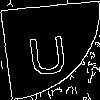U: (25, 25, 70, 77)
